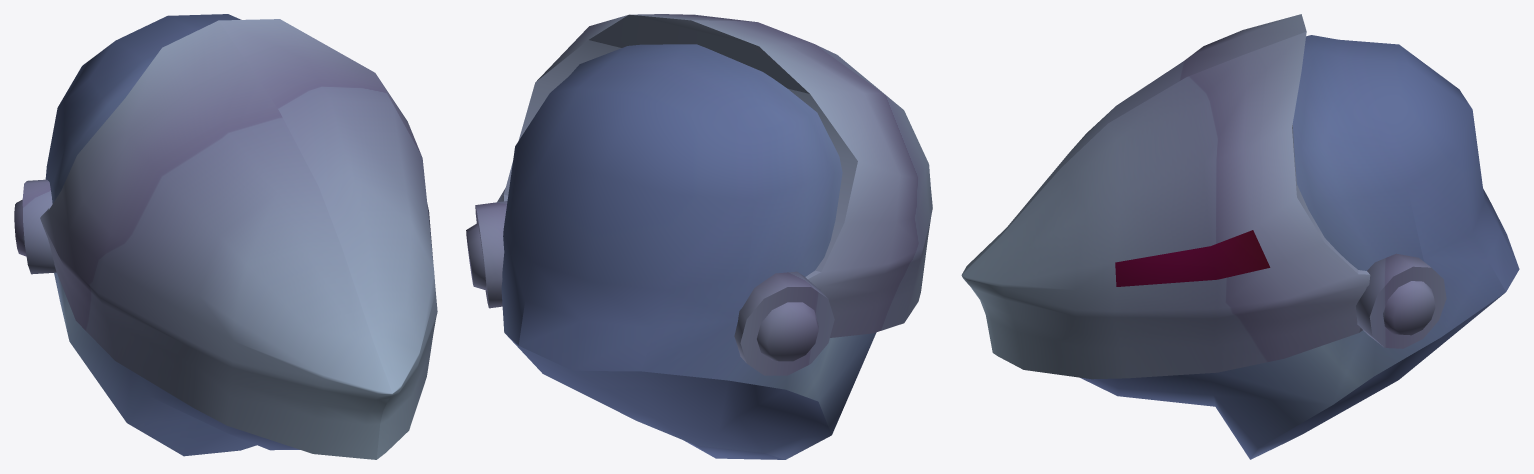
Rendered from CascoRaton_v2.fbx.
The picture shows the model from 3 angles, left to right: view 1: azimuth 30°, elevation 25°; view 2: azimuth 150°, elevation 25°; view 3: azimuth 270°, elevation 25°; orthographic projection. The views are drawn at different scales.
Visible parts, largest first — view 1: casco; view 2: casco; view 3: casco.
Part boxes in pixels (box(x1,y1,x2,y2)): casco: box(14, 14, 437, 459); casco: box(466, 14, 932, 459); casco: box(961, 14, 1519, 459).
Bounding box in the file's own units: 1.51 × 1.75 × 2.16.
